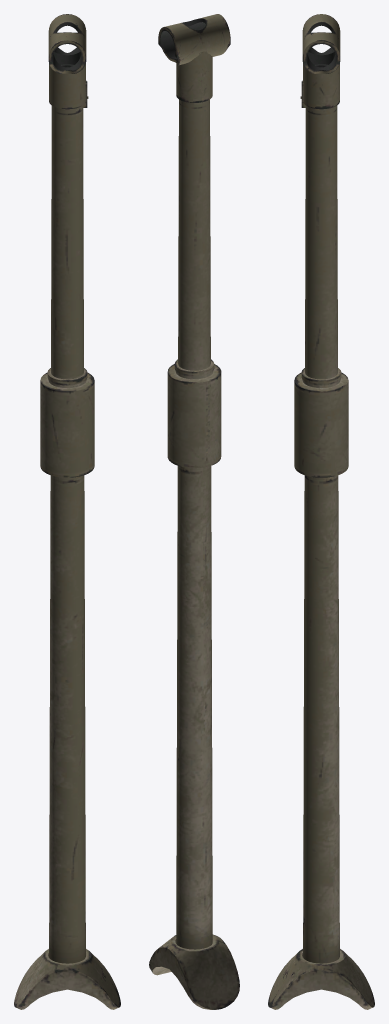
File: Gun_01.glb
The picture shows the model from 3 angles, left to right: view 1: azimuth 90°, elevation 25°; view 2: azimuth 210°, elevation 25°; view 3: azimuth 270°, elevation 25°; orthographic projection.
Parts seen in each view (by area): view 1: set_0_group_0; view 2: set_0_group_0; view 3: set_0_group_0.
Boxes of the visible parts, <box> form: set_0_group_0: <box>14,14,120,1009</box>; set_0_group_0: <box>149,14,239,1009</box>; set_0_group_0: <box>268,14,374,1009</box>.
Bounding box in the file's own units: 0.3403 × 5.88 × 0.5826.
1 material, 1 textured.
